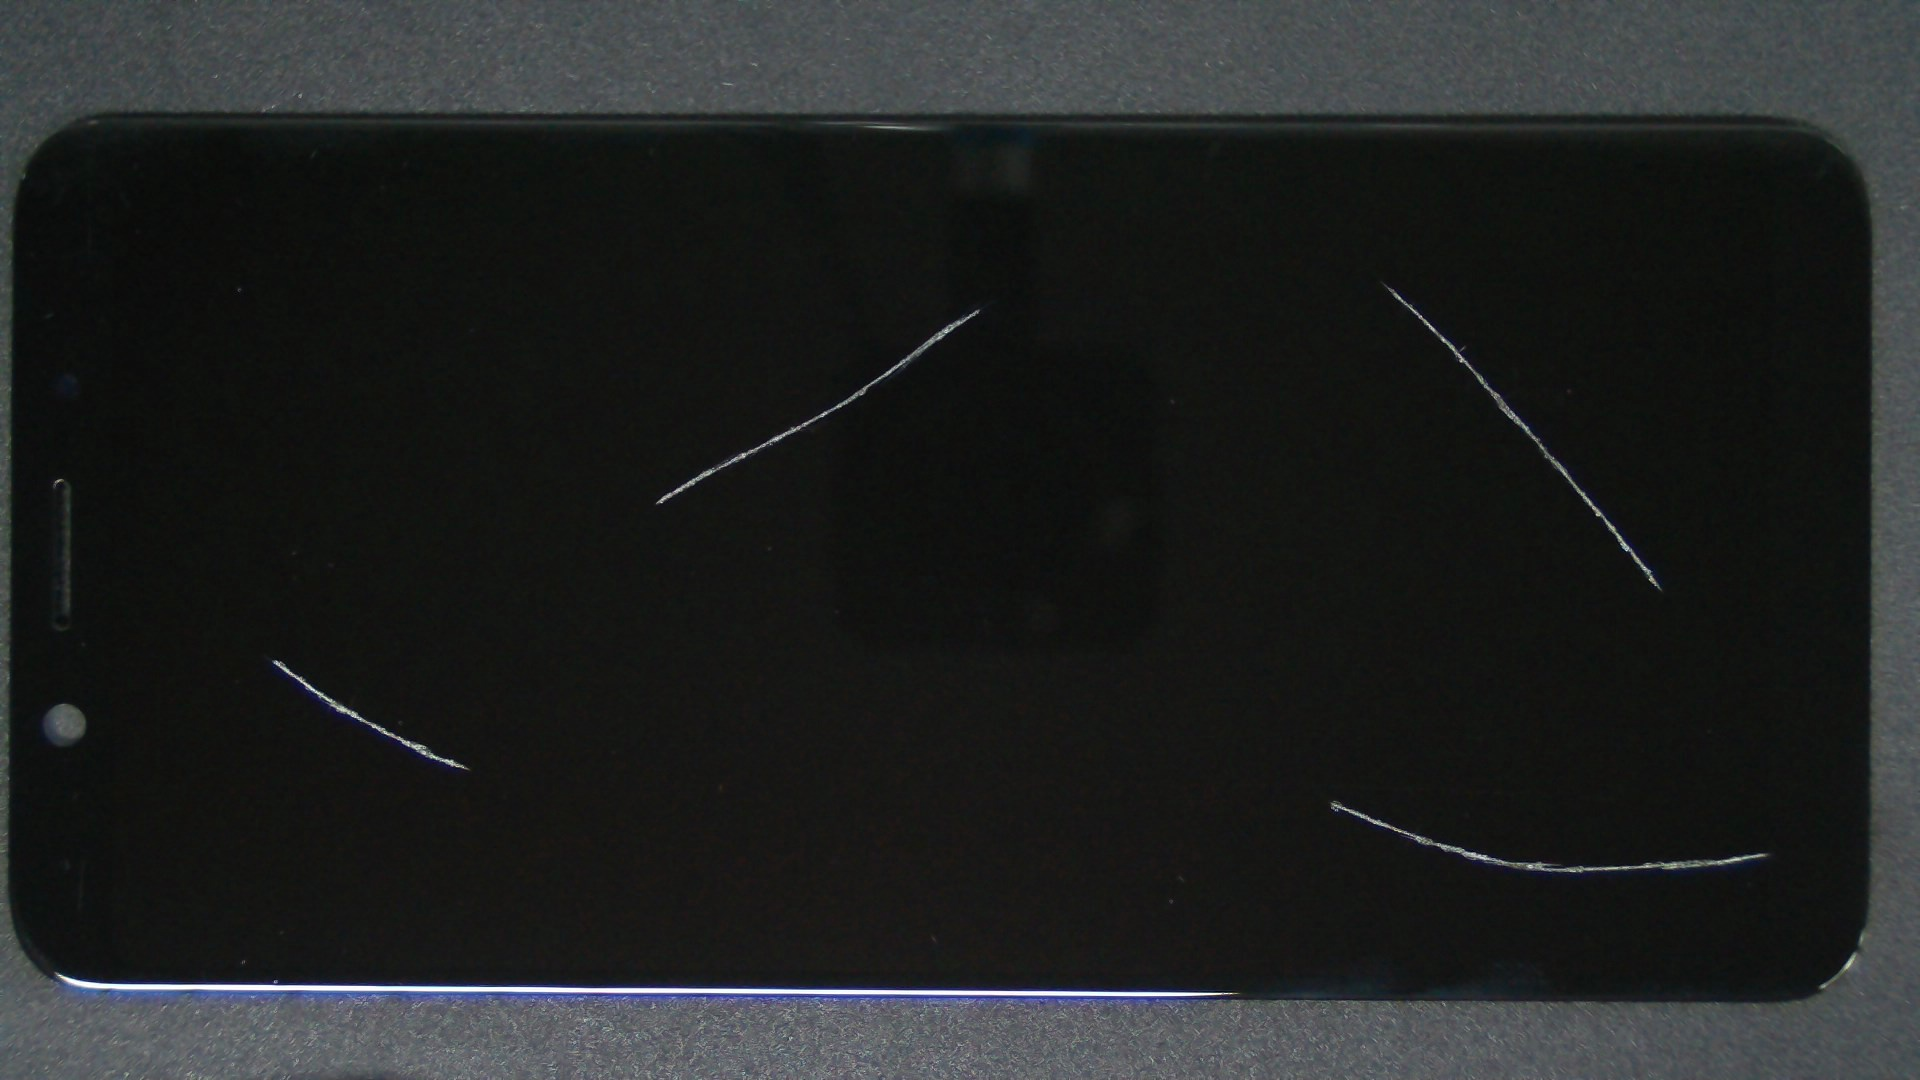oil: (669, 400, 1920, 1080), (691, 141, 1920, 423), (491, 153, 1468, 463), (135, 328, 407, 989)
